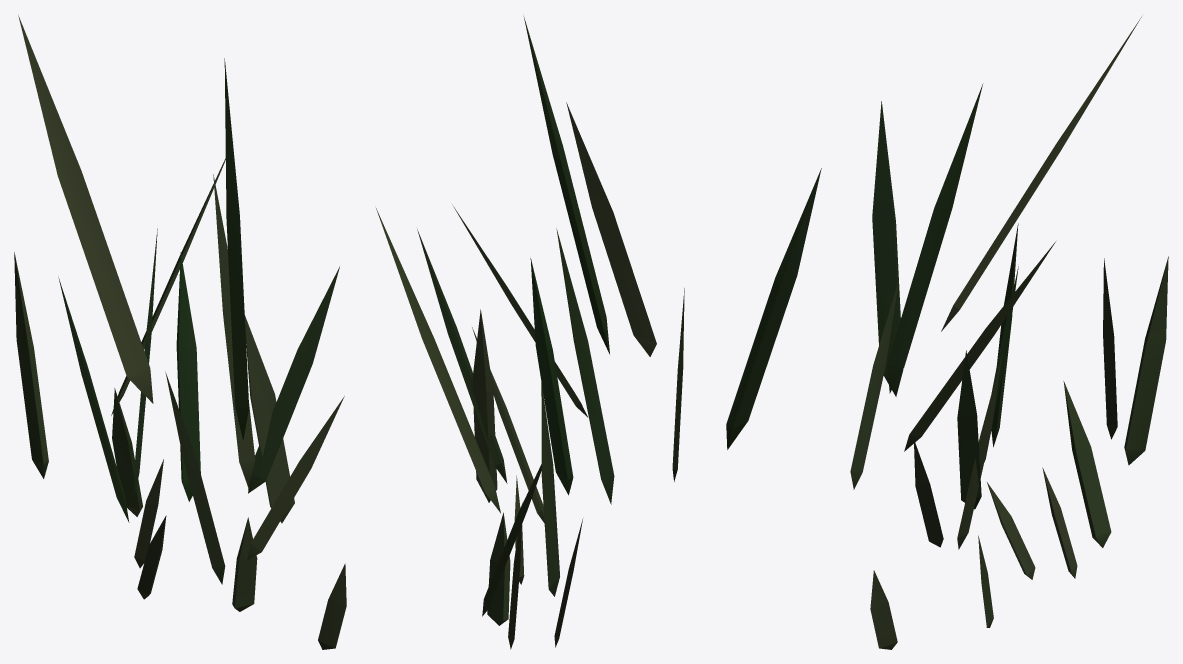
The model's file is grass_tuft.glb.
3 renders of one model, left to right at view 1: azimuth 30°, elevation 25°; view 2: azimuth 150°, elevation 25°; view 3: azimuth 270°, elevation 25°, orthographic. The views are drawn at different scales.
Parts seen in each view (by area): view 1: grass_tuft.glb; view 2: grass_tuft.glb; view 3: grass_tuft.glb.
Part boxes in pixels (<box>): grass_tuft.glb: <box>14,15,346,649</box>; grass_tuft.glb: <box>376,16,821,649</box>; grass_tuft.glb: <box>850,17,1168,649</box>.
Size of the model in its own units: 0.5881 by 1 by 0.5191.
